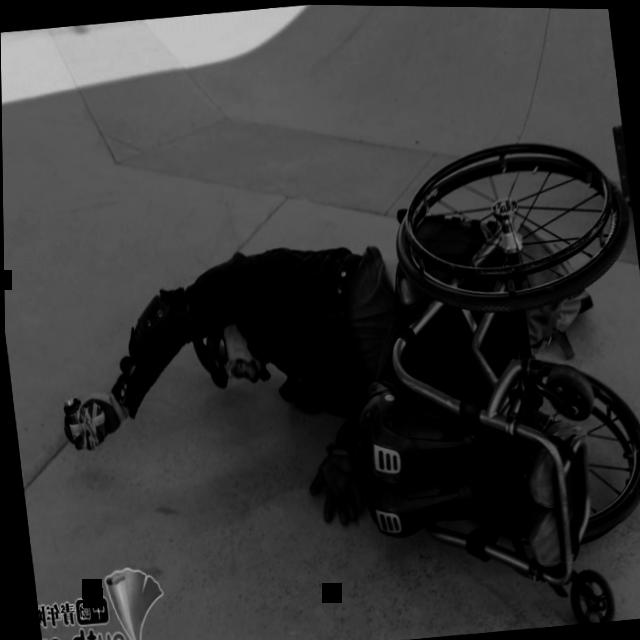Fall-Detected: (46, 173, 615, 579)
